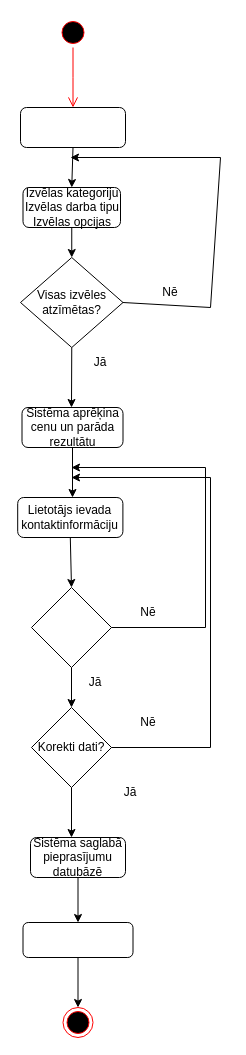
This 246x1055 diagram has some shape labels left out. Here are the shapes that lost their labels. From the top down, the box of each, then its label:
(20, 106, 126, 148): Lietotājs atver kalkulatoru
(30, 586, 112, 668): Forma aizpildīta?
(22, 922, 133, 958): Sistēma parāda apstiprinājumu
